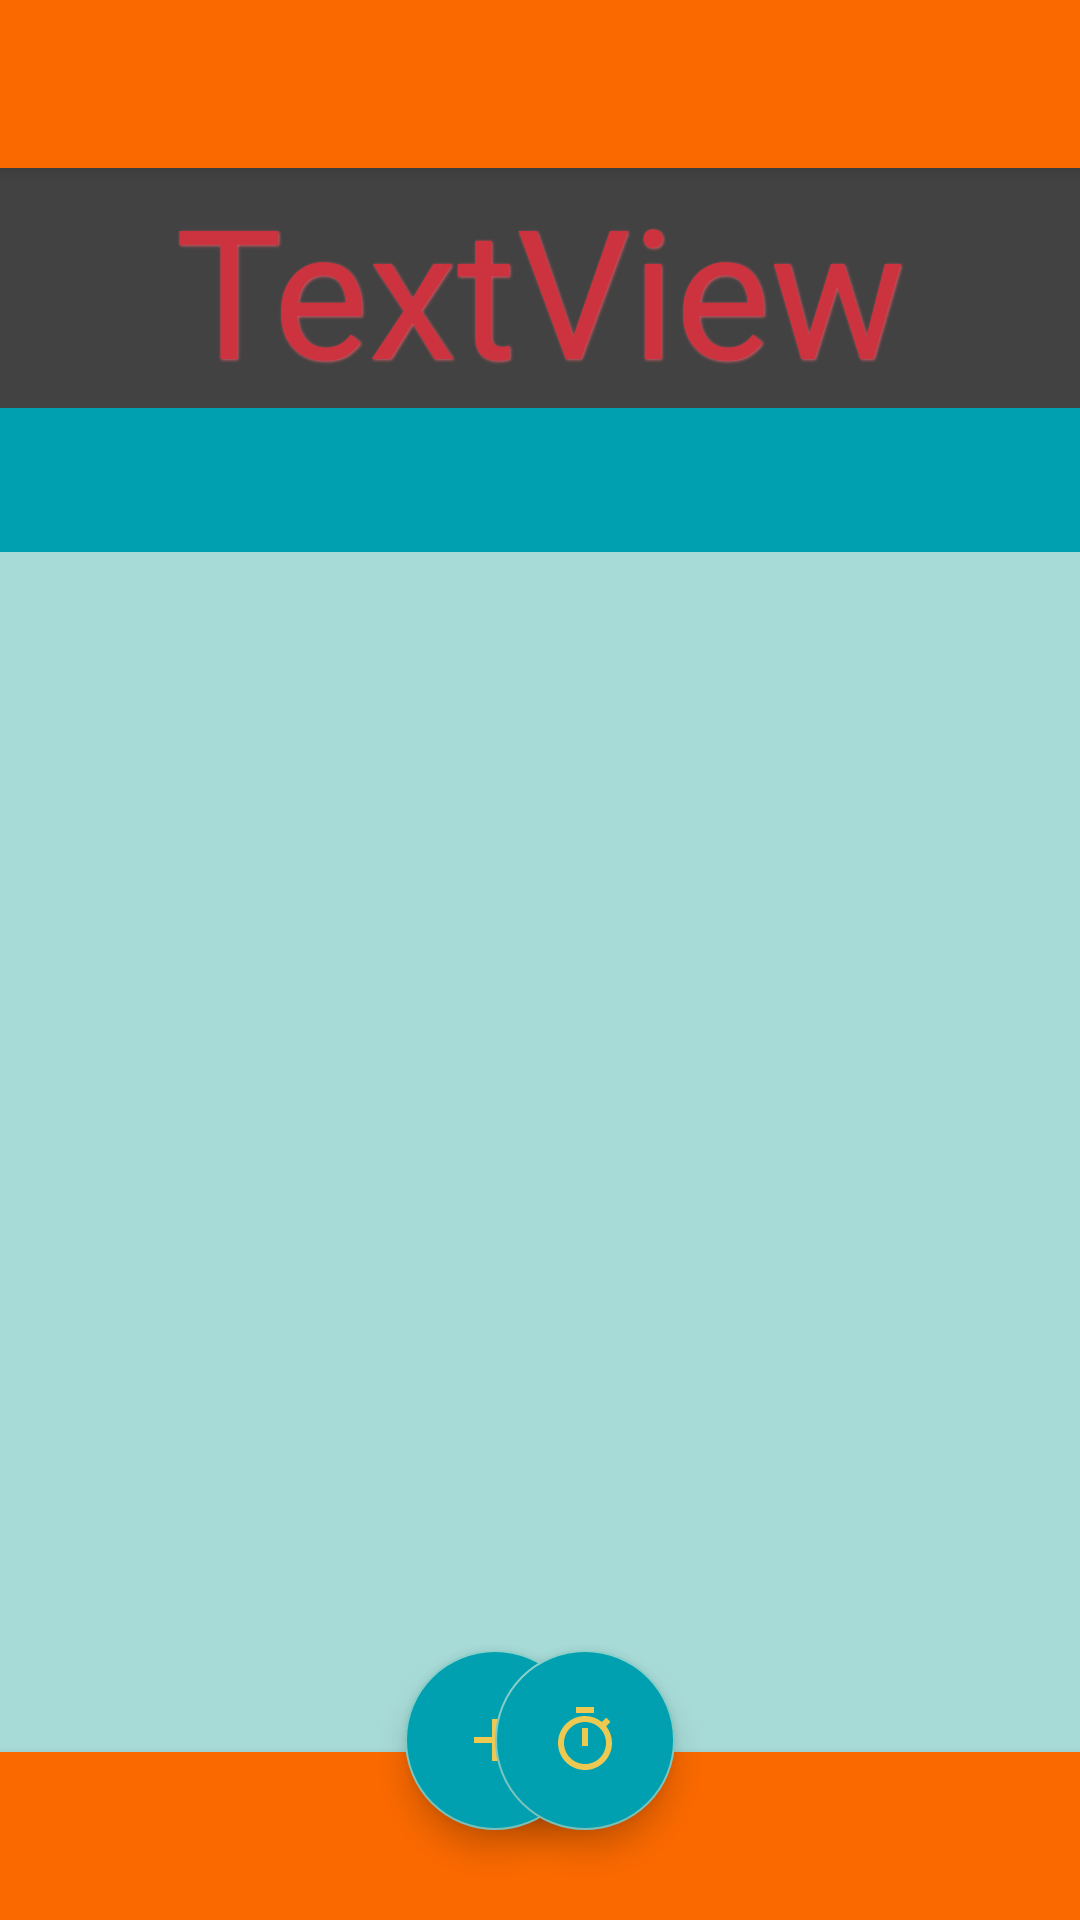

Icons on this 1080px×1920px Android screen, each with the point to tap as (x,y):
timer: (585,1740)
